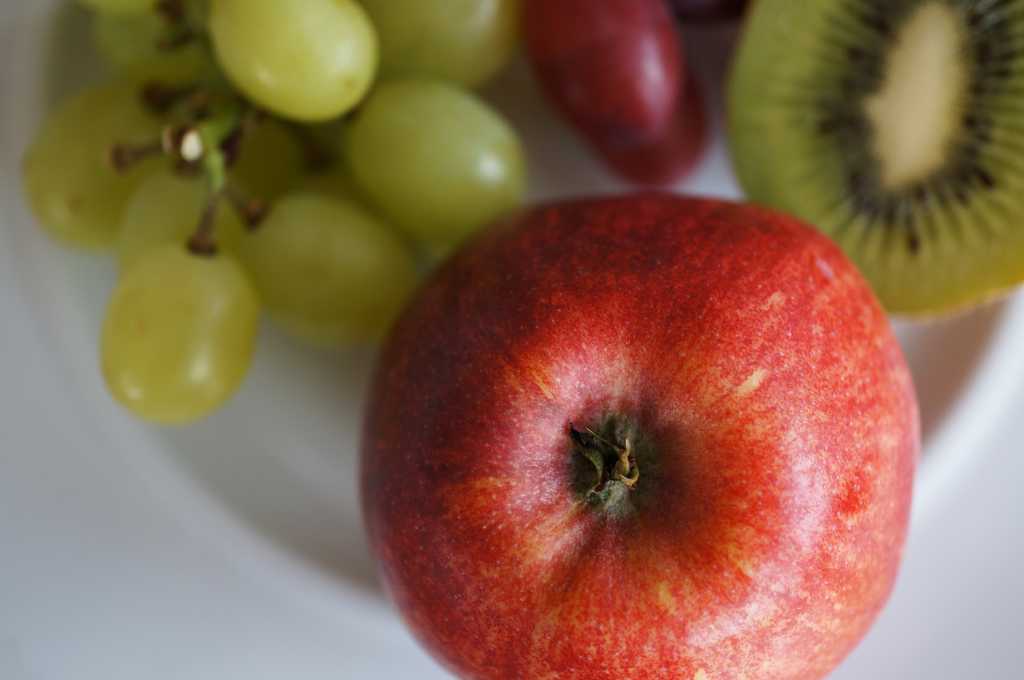Apple: (374, 201, 919, 680)
